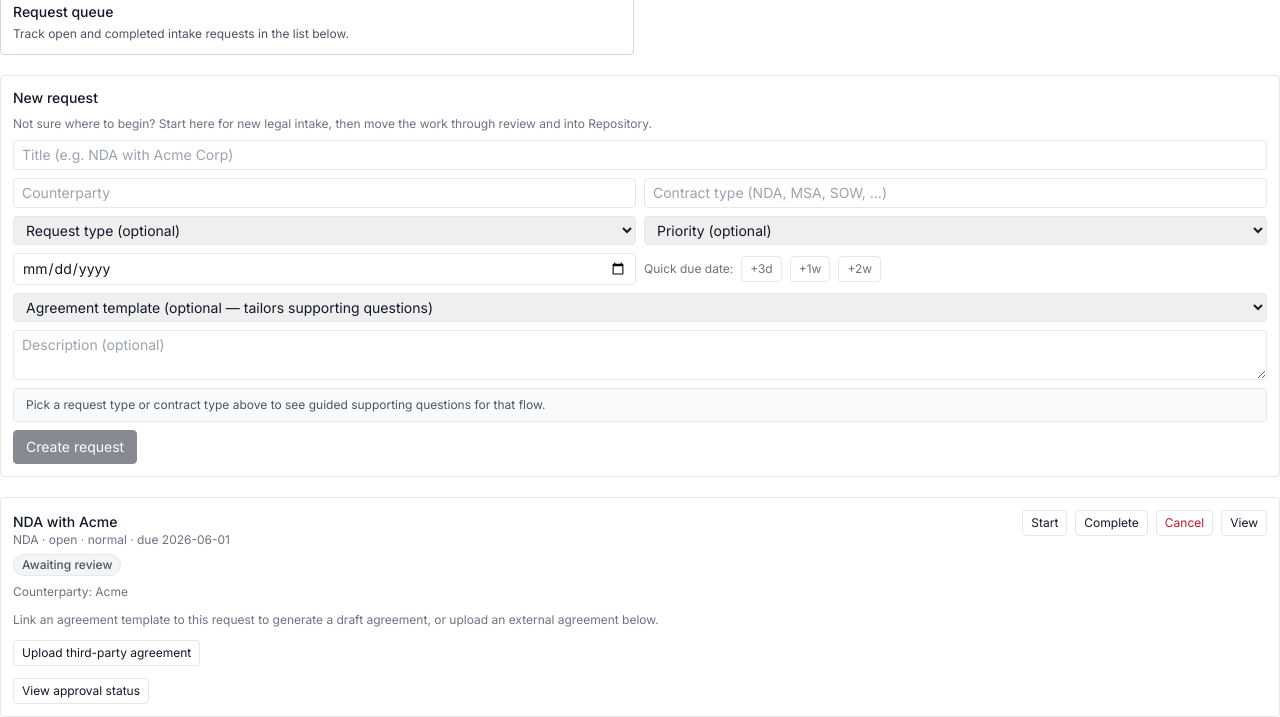
Test case: RequestsPage › renders a rejected/blocked badge with the gate reason text
(page scrolled)
Expected: the link "NDA with Acme" is shown, [13,513,118,530]
What coordinates should you click on to do the following:
click the button with test id "request-approval-toggle"
I would click on:
 (81, 691)
Its box is [13,678,149,704].
(page scrolled)
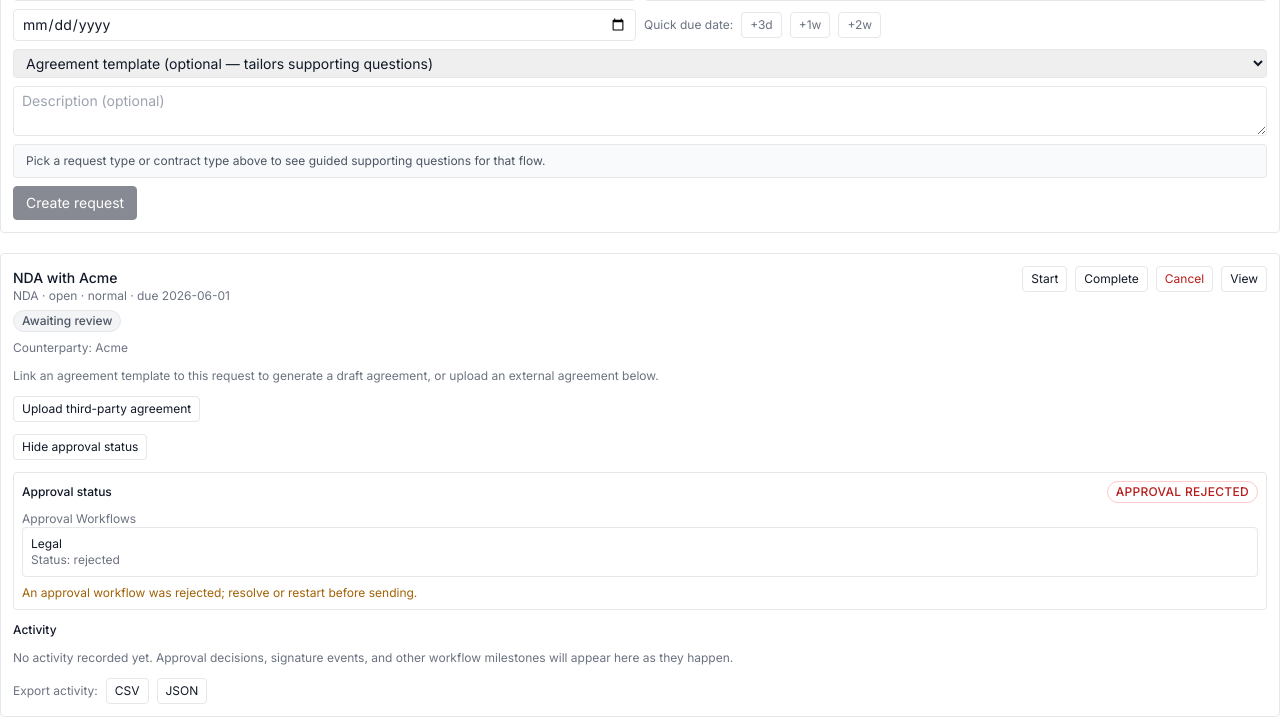
Now the text "Approval rejected" is shown, box [1107,481,1258,503]
Now the text with test id "request-approval-blocking-reason" shows "rejected", box [22,585,417,600]
